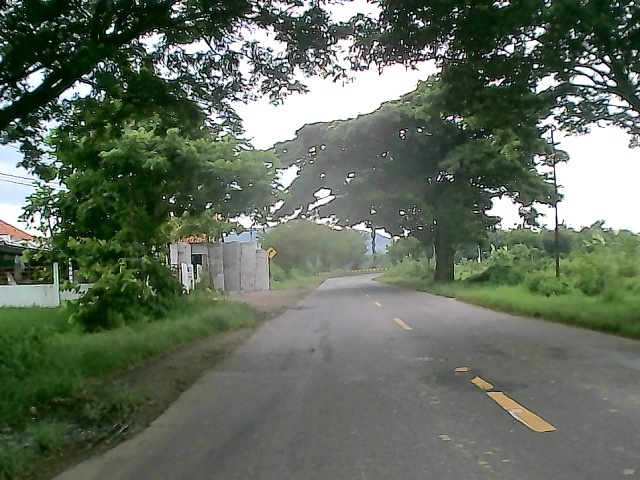Tikungan ke kanan: (263, 245, 278, 260)
